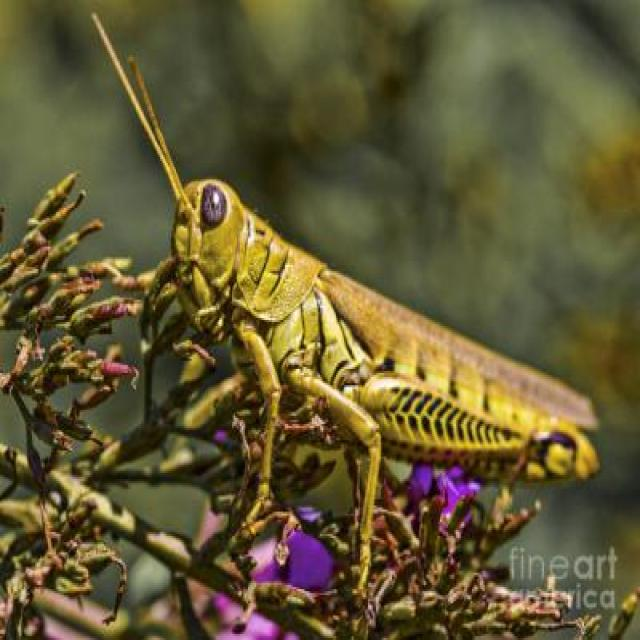antennae: (92, 11, 182, 198), (126, 61, 194, 206)
body: (174, 180, 599, 486)
insect: (90, 14, 598, 588)
legs: (286, 355, 381, 579), (228, 319, 276, 536)
mouthpart: (163, 257, 232, 334)
wings: (316, 268, 596, 427)
